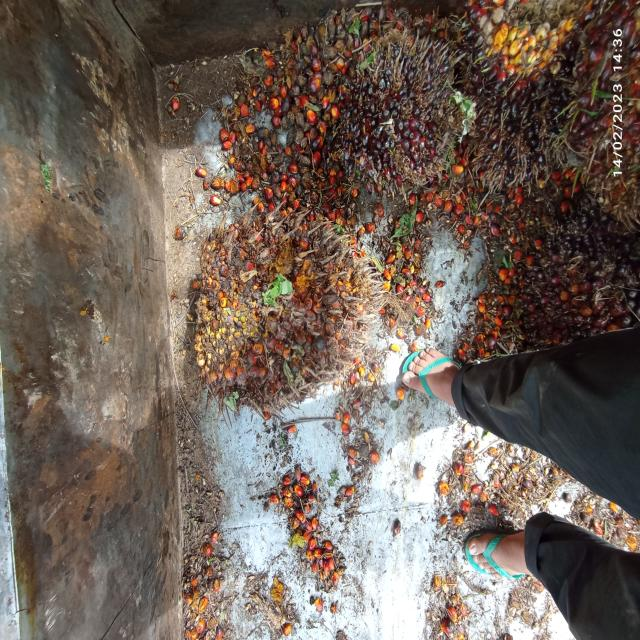fraksi 00: (168, 179, 360, 425), (316, 33, 456, 214)
